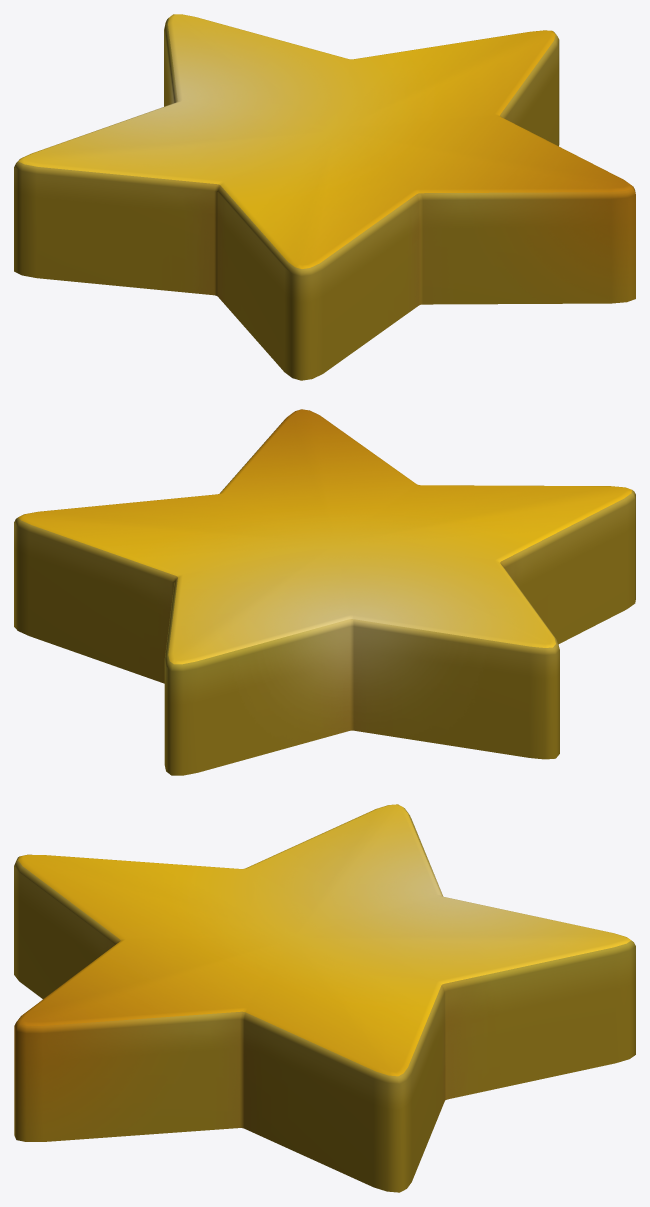
The model's file is goal_02.fbx.
3 views of the same model, one above another, from view 1: azimuth 30°, elevation 25°; view 2: azimuth 150°, elevation 25°; view 3: azimuth 270°, elevation 25° (orthographic). The views are drawn at different scales.
Visible parts, largest first — view 1: Goal; view 2: Goal; view 3: Goal.
Part boxes in pixels (x1=…): Goal: x1=14, y1=14, x2=635, y2=380; Goal: x1=14, y1=409, x2=635, y2=775; Goal: x1=14, y1=804, x2=635, y2=1192.
Bounding box in the file's own units: 190 × 37.46 × 181.
